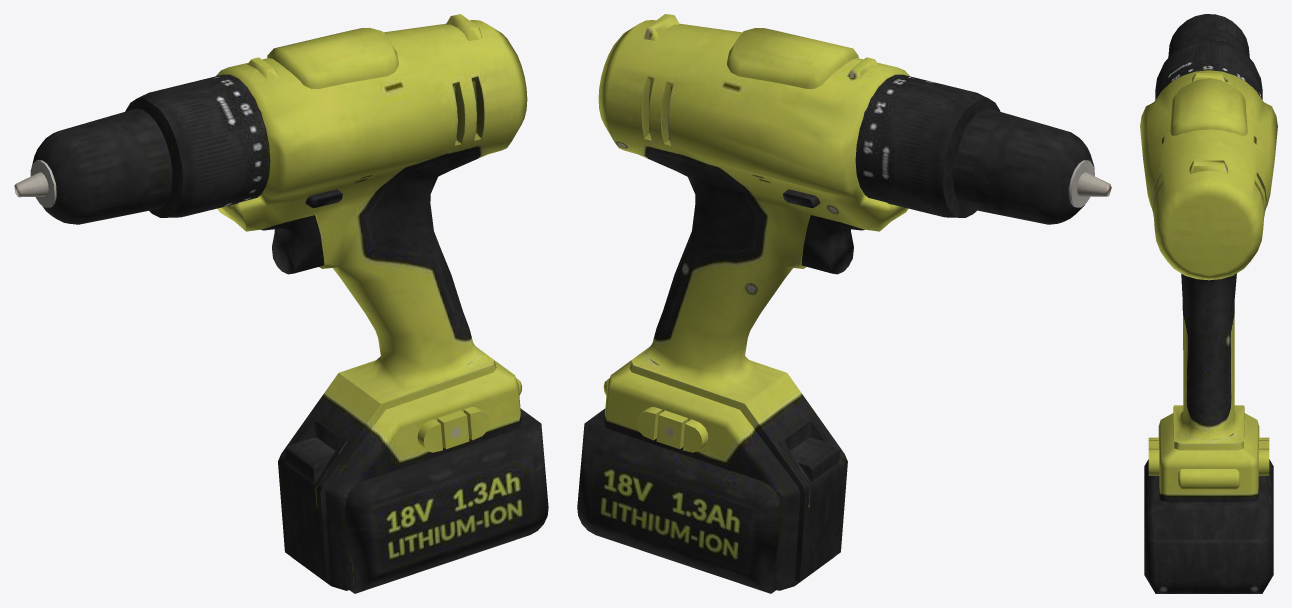
The model's file is drill.glb.
The picture shows the model from 3 angles, left to right: view 1: azimuth 30°, elevation 25°; view 2: azimuth 150°, elevation 25°; view 3: azimuth 270°, elevation 25°; orthographic projection. The views are drawn at different scales.
Parts seen in each view (by area): view 1: Drill_01; view 2: Drill_01; view 3: Drill_01.
Boxes of the visible parts, bbox=[...] form: Drill_01: bbox=[14, 14, 548, 593]; Drill_01: bbox=[577, 14, 1111, 593]; Drill_01: bbox=[1140, 14, 1277, 593].
Size of the model in its own units: 0.1829 by 0.1851 by 0.0524.
1 material, 1 textured.
